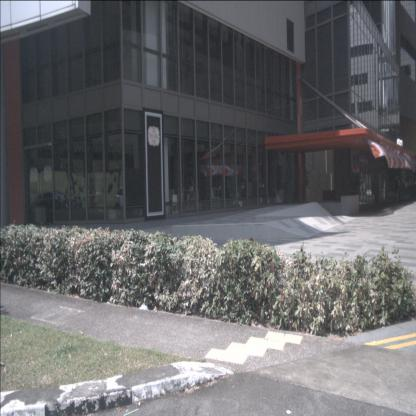human-pedestrian-adult: (393, 174, 400, 204)
